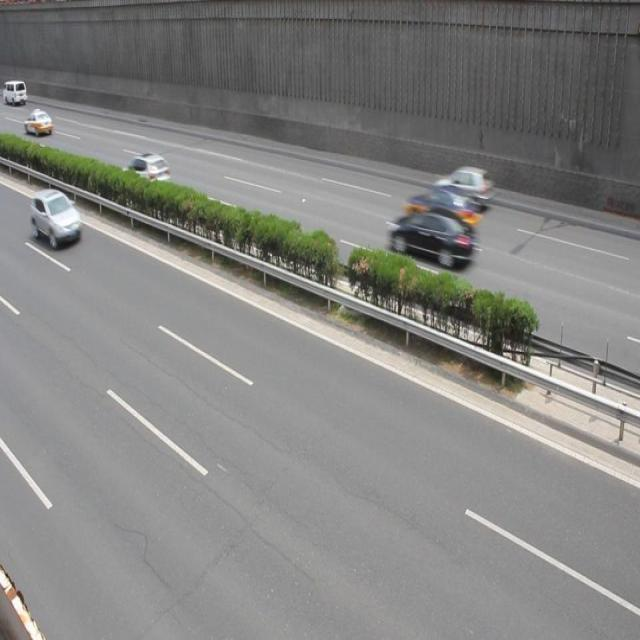car: (388, 208, 474, 272), (404, 187, 480, 235), (31, 186, 82, 248), (432, 166, 493, 213), (121, 151, 172, 194)
